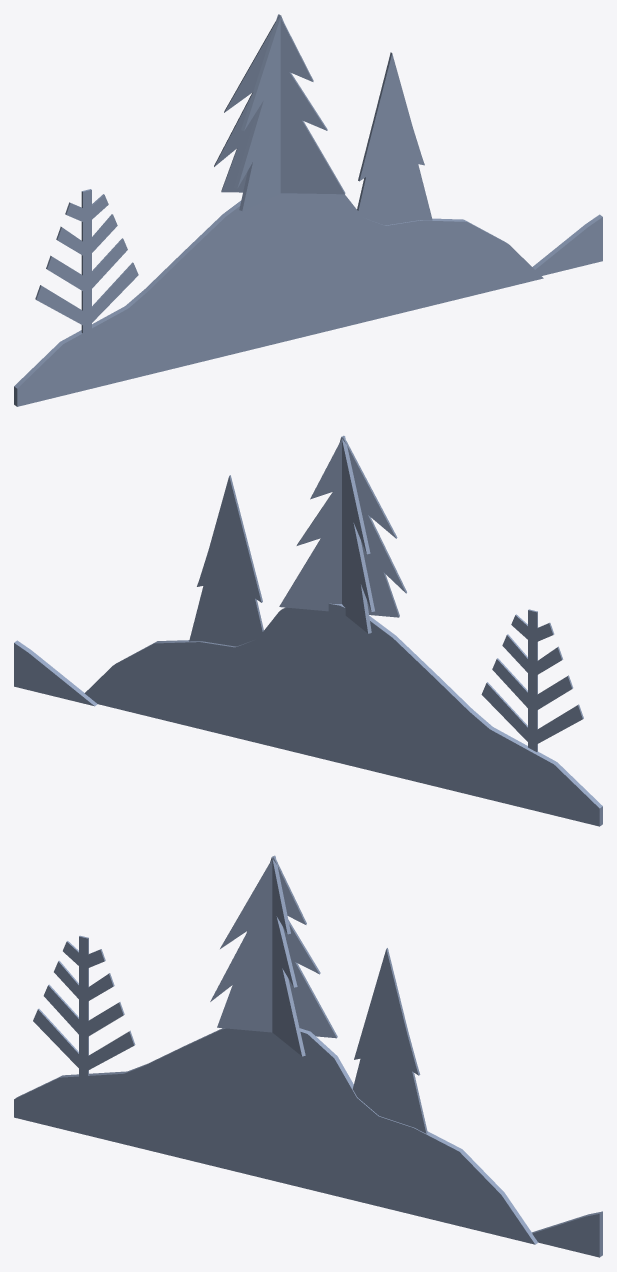
The model's file is frame_0213.glb.
3 views of the same model, one above another, from view 1: azimuth 30°, elevation 25°; view 2: azimuth 150°, elevation 25°; view 3: azimuth 330°, elevation 25° (orthographic).
Visible parts, largest first — view 1: export_trees_001.002; view 2: export_trees_001.002; view 3: export_trees_001.002.
Boxes of the visible parts, box(x1,y1,x2,y2) form: export_trees_001.002: box(14, 14, 602, 406); export_trees_001.002: box(14, 435, 602, 826); export_trees_001.002: box(14, 855, 602, 1257).
Size of the model in its own units: 0.4327 by 0.2304 by 0.0469.
